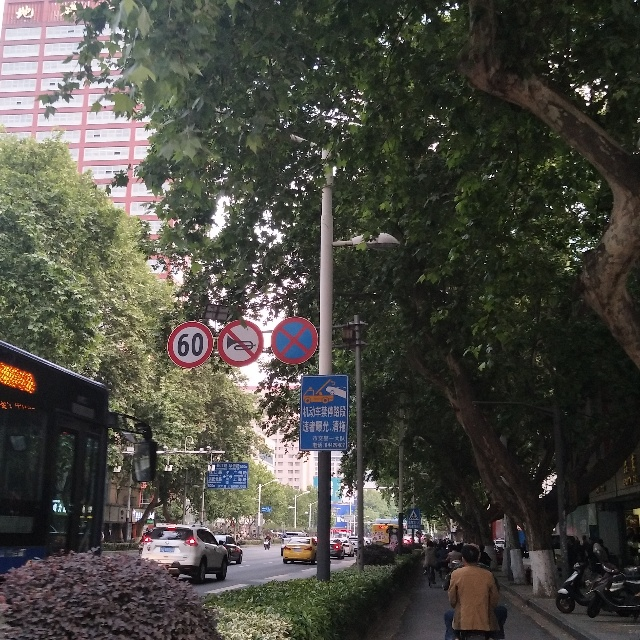nohonk: (217, 320, 264, 367)
stop: (271, 317, 318, 364)
